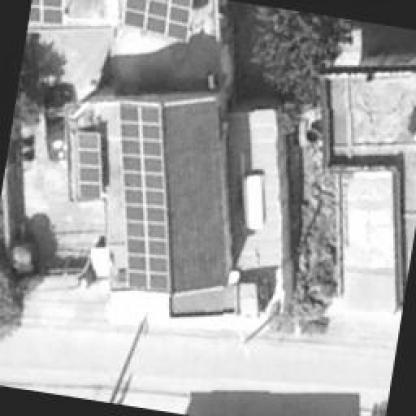solar-pv-panel: (118, 101, 169, 292), (121, 0, 190, 42), (77, 132, 99, 200), (27, 0, 62, 25)
